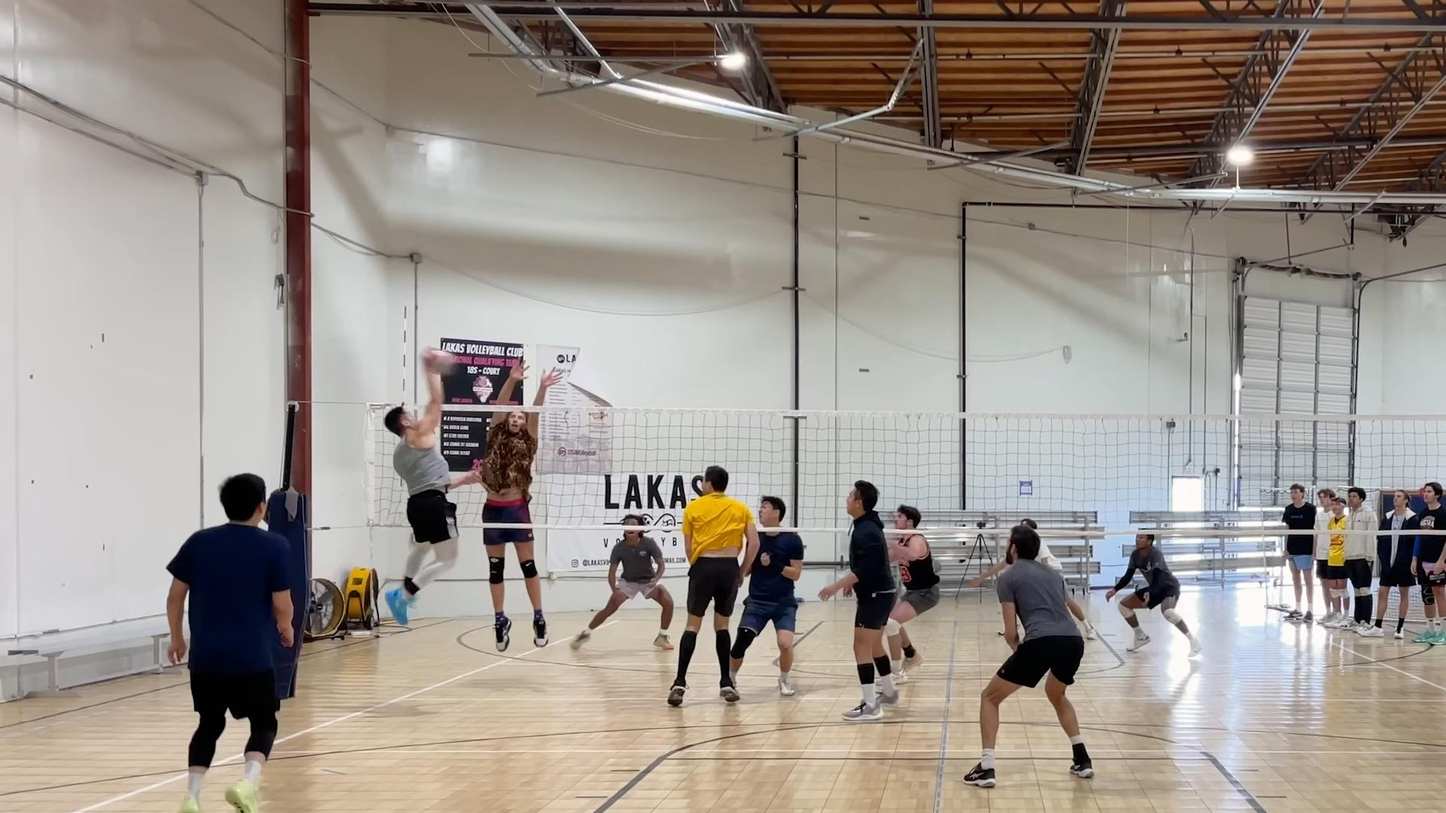Attack: (379, 348, 460, 626)
Block: (474, 359, 567, 652)
Player: (167, 473, 293, 812), (963, 525, 1093, 787), (667, 466, 759, 706), (819, 480, 898, 720), (729, 496, 803, 696), (571, 514, 673, 650), (1106, 533, 1200, 656), (886, 534, 940, 684), (971, 550, 1011, 586)
ball: (426, 348, 455, 379)
